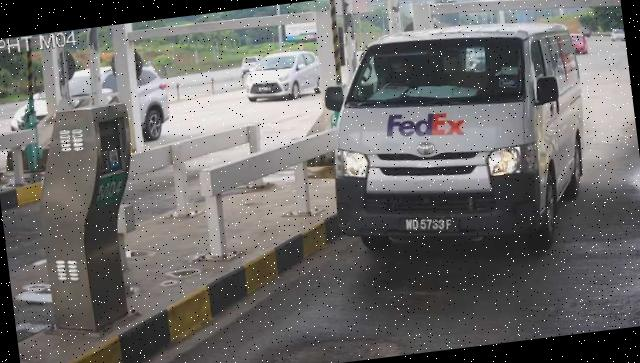License_Plate: (397, 210, 462, 242)
van: (318, 13, 602, 275)
